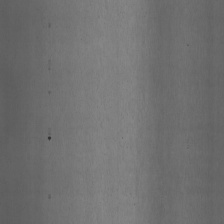oil_spot: (46, 56, 51, 72), (47, 127, 52, 142), (48, 88, 52, 98), (48, 17, 51, 29), (47, 192, 51, 201)
